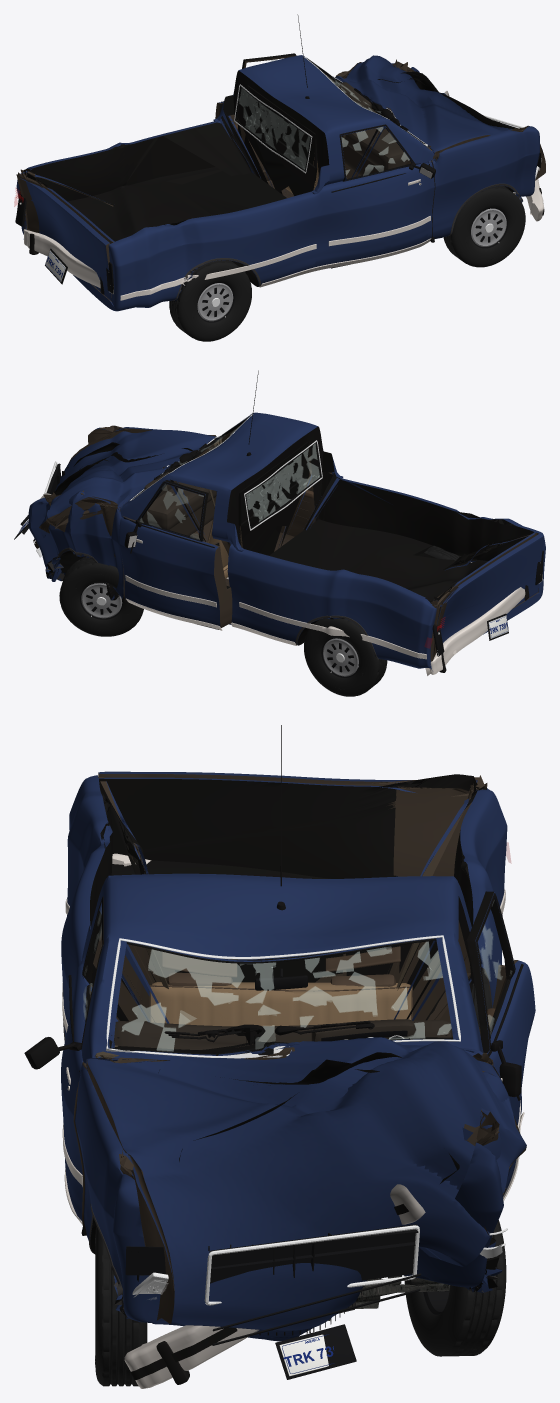
File: pickup87_front_corner_d2.glb
3 views of the same model, one above another, from view 1: azimuth 30°, elevation 25°; view 2: azimuth 150°, elevation 25°; view 3: azimuth 270°, elevation 25° (orthographic). The views are drawn at different scales.
Visible parts, largest first — view 1: Body, Hood, Wheel_RR_mesh, Wheel_FR_mesh, Tailgate, Door_FR, Glass, Interior, Trim, Trim_FR, Bumper_R, Ends (+3 smaller); view 2: Body, Door_FL, Hood, Tailgate, Wheel_RL_mesh, Wheel_FL_mesh, Glass, Interior, Trim, Bumper_R, Trim_FL, Ends (+2 smaller); view 3: Body, Hood, Interior, Ends, Glass, Wheel_FL_mesh, Door_FL, Bumper_F, Wheel_FR_mesh, Door_FR, Trim, Trim_FL (+4 smaller).
Part boxes in pixels (box(x1,y1,x2,y2)): Body: box(16, 55, 539, 311); Hood: box(336, 55, 545, 180); Wheel_RR_mesh: box(169, 260, 251, 341); Wheel_FR_mesh: box(443, 186, 525, 267); Tailgate: box(16, 174, 111, 301); Door_FR: box(324, 124, 435, 264); Glass: box(234, 56, 427, 173); Interior: box(285, 82, 408, 193); Trim: box(120, 14, 522, 300); Trim_FR: box(325, 124, 435, 268); Bumper_R: box(23, 229, 104, 294); Ends: box(15, 115, 541, 294); Body: box(28, 412, 545, 670); Door_FL: box(119, 480, 232, 627); Hood: box(33, 430, 215, 557); Tailgate: box(433, 533, 544, 658); Wheel_RL_mesh: box(304, 618, 387, 696); Wheel_FL_mesh: box(59, 557, 143, 636); Glass: box(130, 414, 322, 530); Interior: box(141, 445, 228, 578); Trim: box(45, 370, 471, 659); Bumper_R: box(425, 585, 529, 675); Trim_FL: box(123, 481, 222, 630); Ends: box(14, 461, 543, 656); Body: box(61, 774, 511, 1323); Hood: box(86, 1037, 526, 1341); Interior: box(114, 946, 452, 1049); Ends: box(125, 1224, 507, 1379); Glass: box(106, 935, 460, 1058); Wheel_FL_mesh: box(404, 1220, 506, 1356); Door_FL: box(466, 891, 535, 1196); Bumper_F: box(124, 1184, 425, 1388); Wheel_FR_mesh: box(95, 1226, 147, 1386); Door_FR: box(61, 896, 103, 1226); Trim: box(62, 725, 506, 1333); Trim_FL: box(476, 893, 524, 1201).
Bounding box in the file's own units: 4.97 × 2.58 × 2.31.
Materials: 34 (5 with a texture image).
